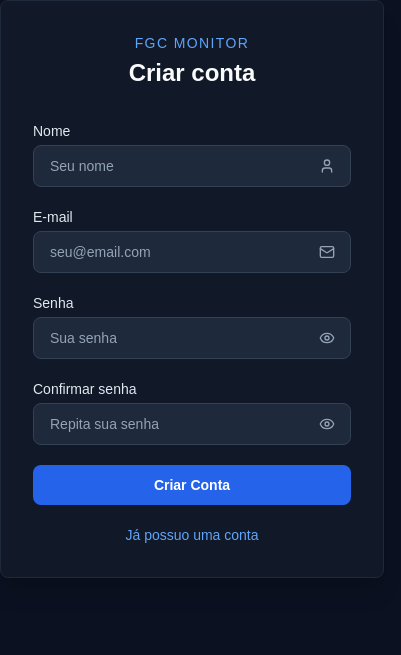
REgister › mostra a validação quando as senhas enviadas não são iguais
Step 1. Type "@Senha12" into the password field labelled "Senha" → point(192, 338), box [33, 317, 351, 359]
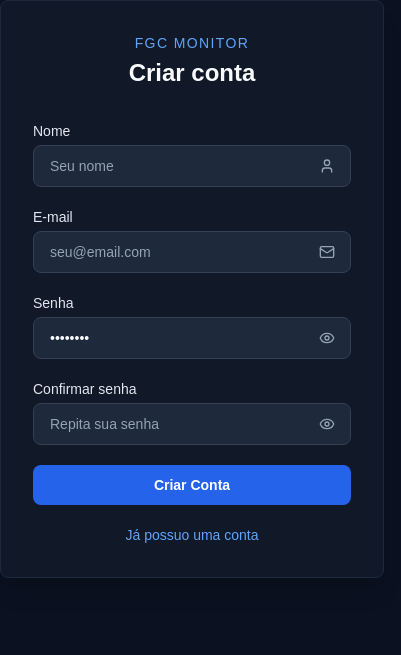
Step 2. Type "@Senha45" into the password field labelled "Confirmar senha" → point(192, 424), box [33, 403, 351, 445]
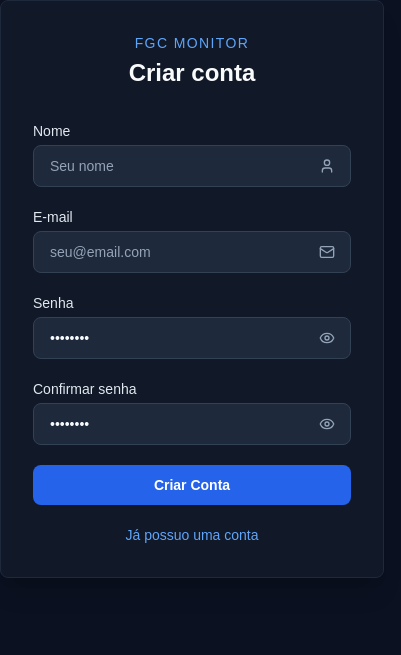
Step 3. Click the button "Criar Conta" → point(192, 485), box [33, 465, 351, 505]
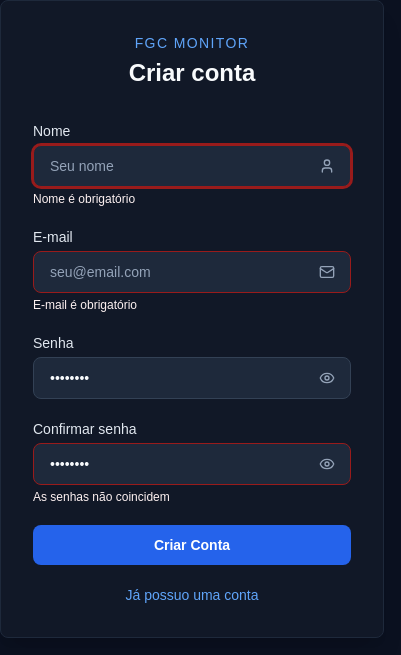
Expected: the text "As senhas não coincidem" is shown, [33, 490, 170, 504]
